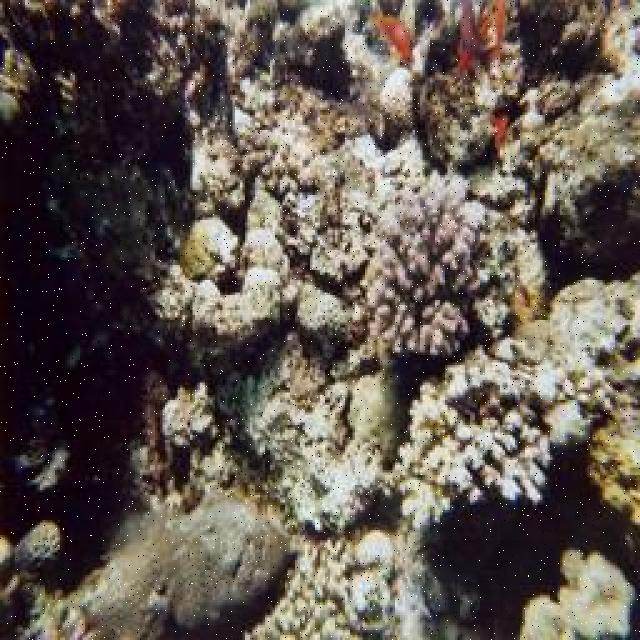fish: (366, 3, 414, 63), (447, 0, 483, 69), (477, 3, 506, 79)
reefs: (391, 364, 550, 531), (362, 169, 488, 356), (518, 549, 638, 638), (208, 126, 316, 196)
